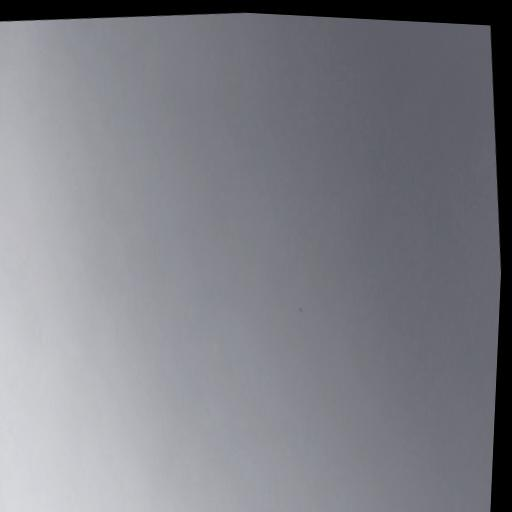drones: (299, 307, 302, 313)
